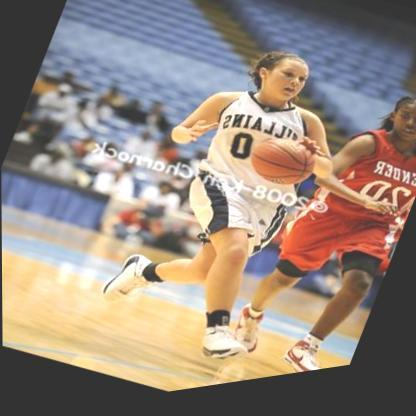basketball: (242, 129, 321, 207)
